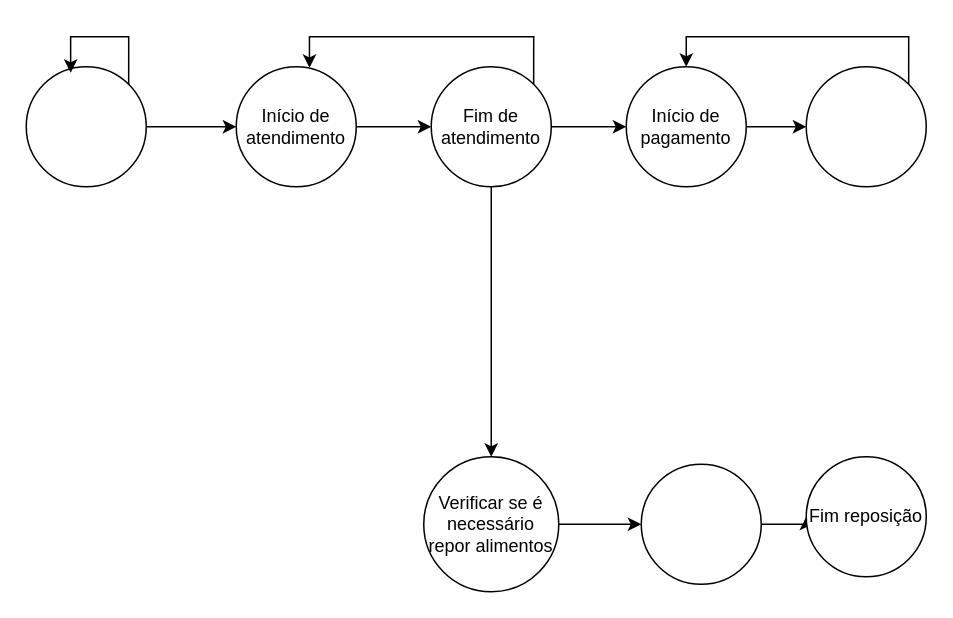
This 953x618 diagram has some shape labels left out. The centre of each missing label's shape, as x and y in pixels:
Chegada: point (85, 126)
Fim de pagamento: point (865, 126)
Iniciar reposição: point (700, 523)
